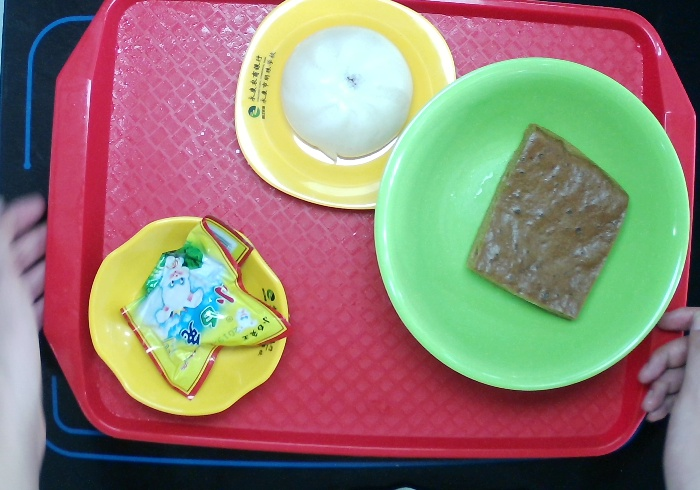YKMZ-Huang_Se_Ao_Bian_Wan: (86, 214, 290, 419)
YKMZ-Huang_Se_Fang_Die: (232, 1, 462, 213)
YKMZ-Lv_Se_Tang_Wan: (371, 55, 693, 393)
